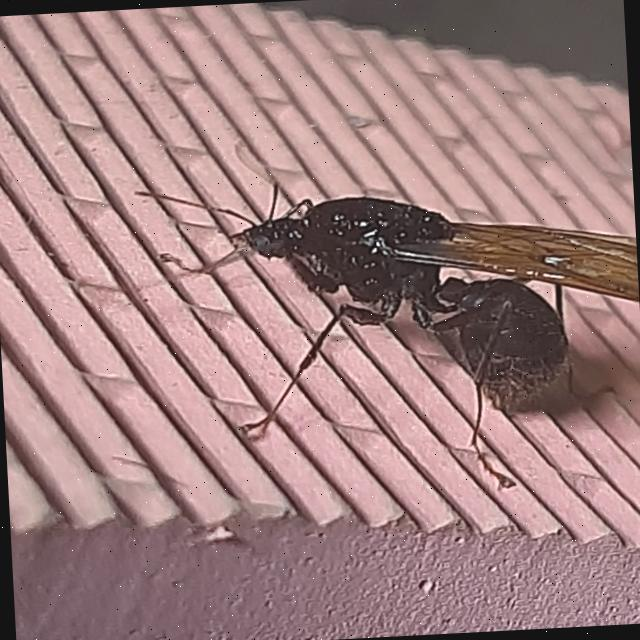Alive-Male-Alate: (136, 160, 640, 506)
